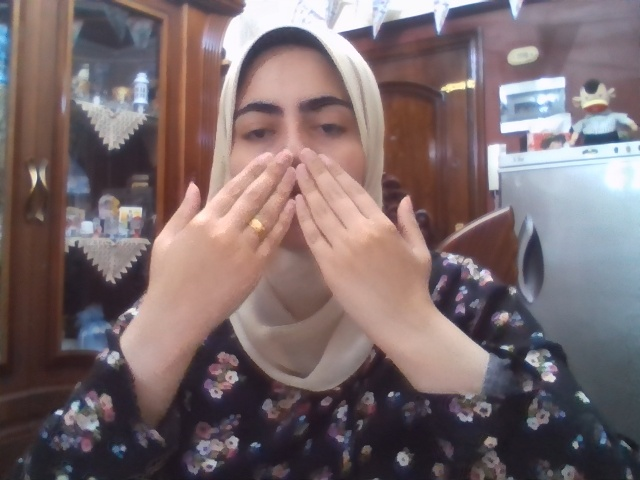thanks: (149, 149, 433, 340)
